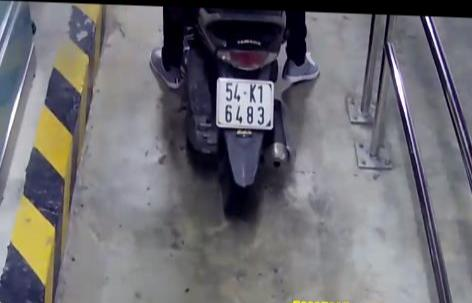LP: (214, 75, 278, 130)
